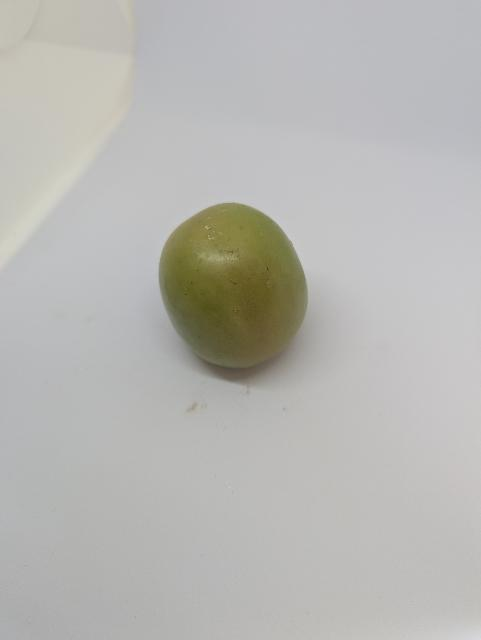green: (149, 191, 319, 383)
